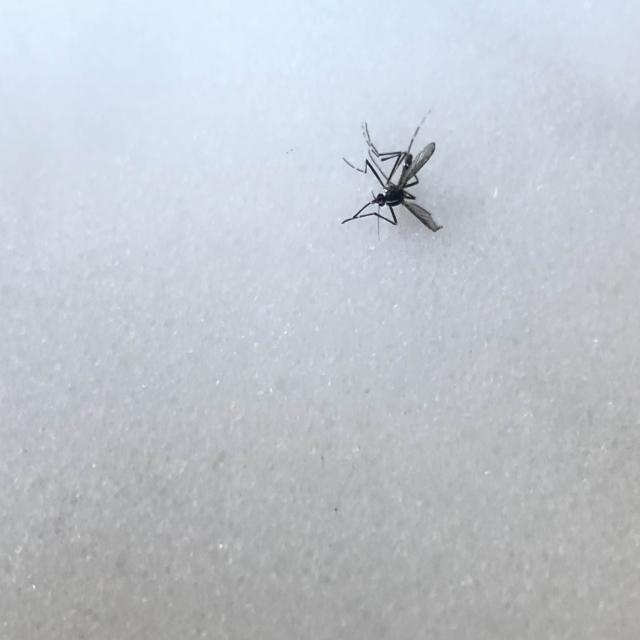albopictus: (335, 103, 446, 238)
